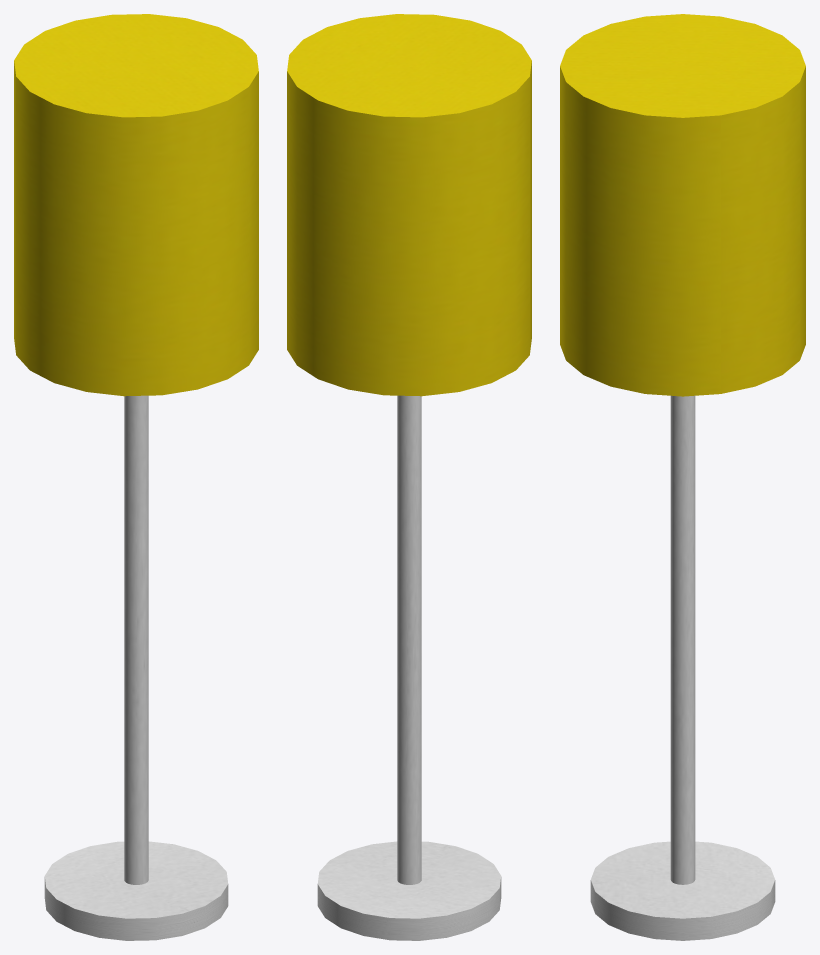
File: lampara.obj
3 renders of one model, left to right at view 1: azimuth 30°, elevation 25°; view 2: azimuth 150°, elevation 25°; view 3: azimuth 270°, elevation 25°, orthographic.
Visible parts, largest first — view 1: pCylinder1, pCylinder2, pCylinder3; view 2: pCylinder1, pCylinder2, pCylinder3; view 3: pCylinder1, pCylinder2, pCylinder3.
Boxes of the visible parts, <box> form: pCylinder1: <box>14,14,258,396</box>; pCylinder2: <box>44,841,228,940</box>; pCylinder3: <box>124,395,148,884</box>; pCylinder1: <box>287,14,531,396</box>; pCylinder2: <box>317,841,501,940</box>; pCylinder3: <box>397,395,421,884</box>; pCylinder1: <box>560,14,805,396</box>; pCylinder2: <box>590,841,775,940</box>; pCylinder3: <box>670,395,695,884</box>.
Size of the model in its own units: 40 by 150 by 40.
2 materials, 2 textured.
